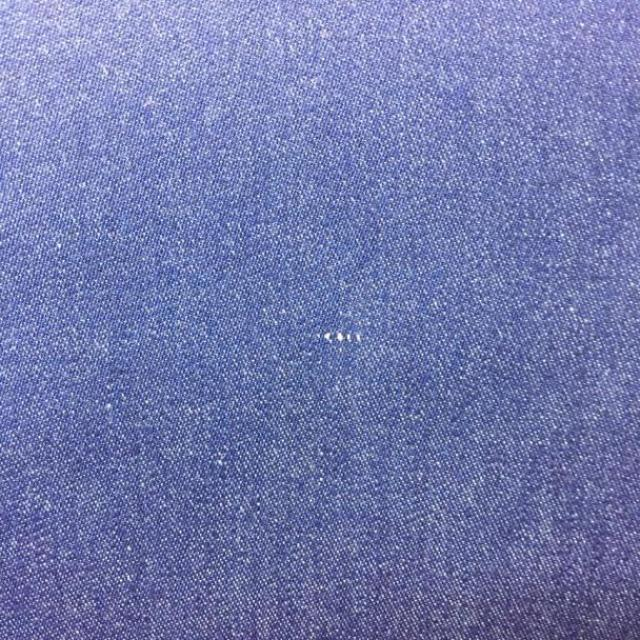Knot: (323, 332, 362, 345)
